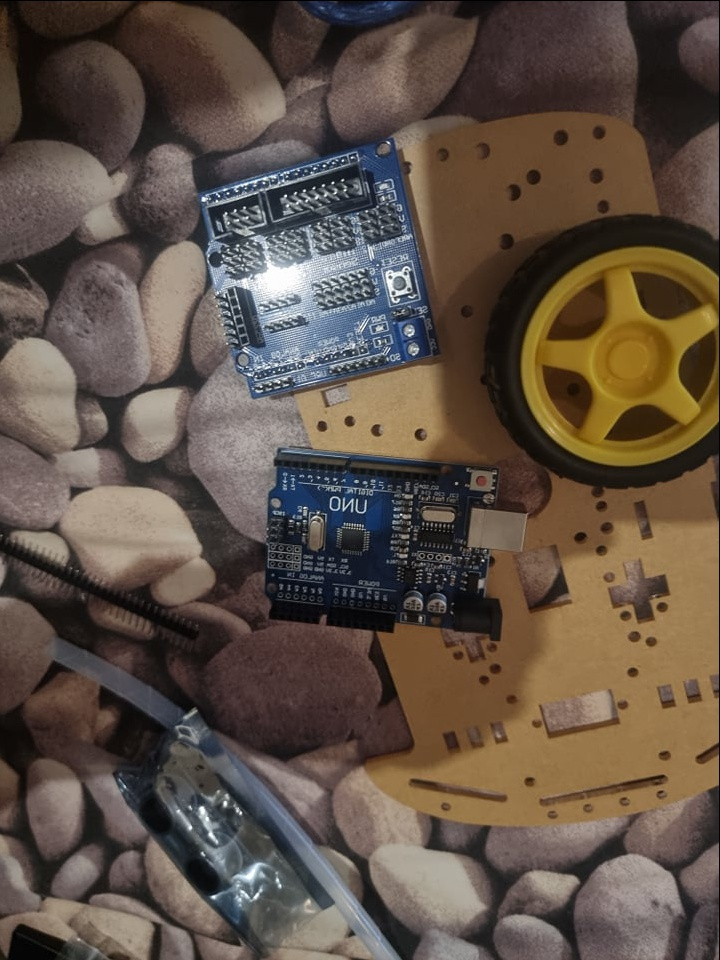5V EXPANSION: (197, 135, 442, 398)
UNO R3: (267, 443, 529, 642)
